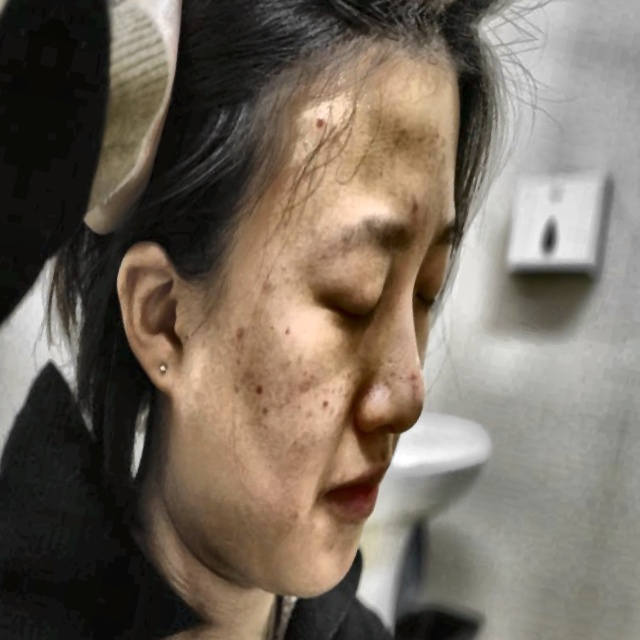comedone: (301, 102, 333, 153), (225, 325, 247, 358), (406, 198, 424, 219)
